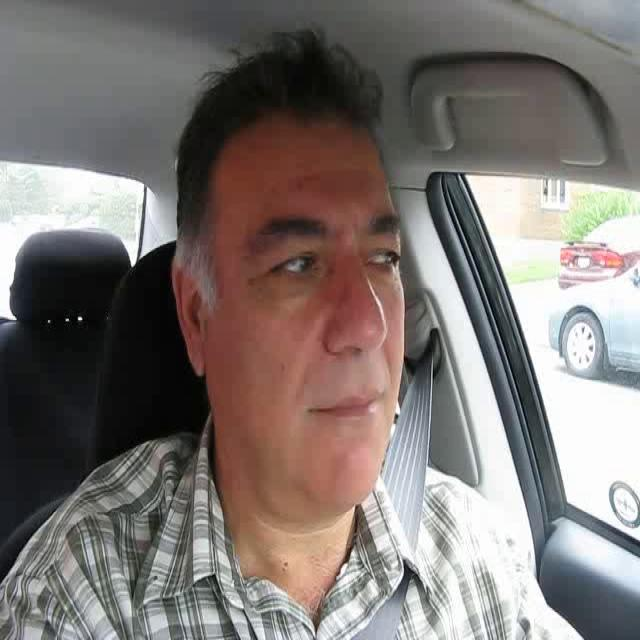close: (302, 381, 391, 424)
